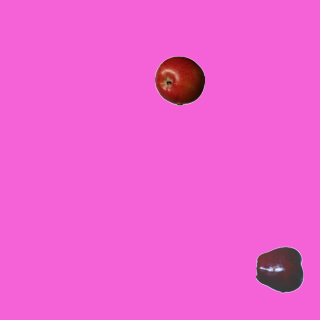Apple Braeburn: (154, 55, 204, 105)
Apple Red Delicious: (255, 244, 305, 294)
